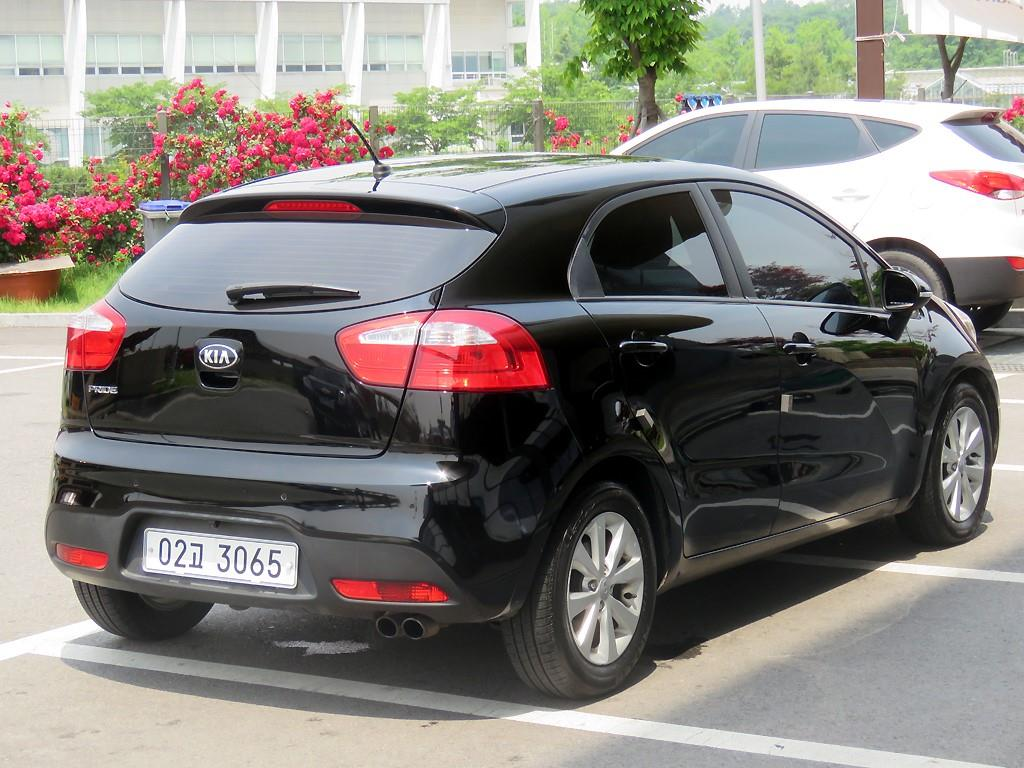plate: (145, 530, 296, 587)
